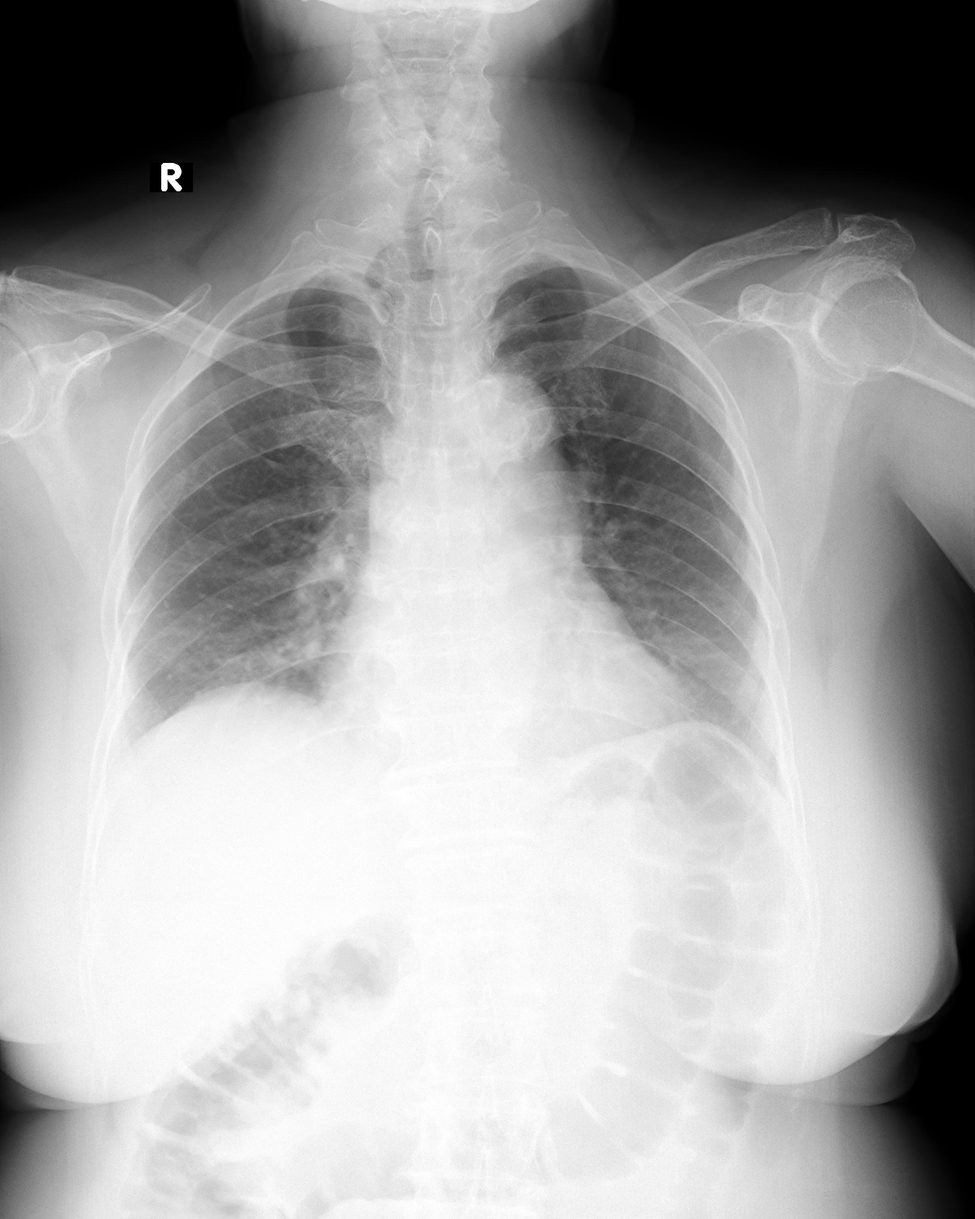Aortic enlargement: (446, 372, 559, 467)
